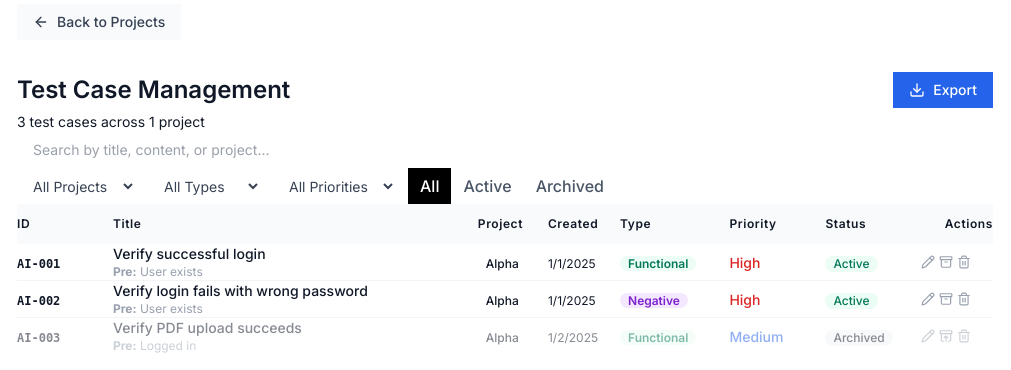
Test: TestCaseManagementView – clear filters › Clear button removes the active filter
This screenshot has width=1011, height=370.
Type "login" into the field with placeholder "Search by title, content, or project…". click: (505, 150)
box: x1=17 y1=132 x2=993 y2=168
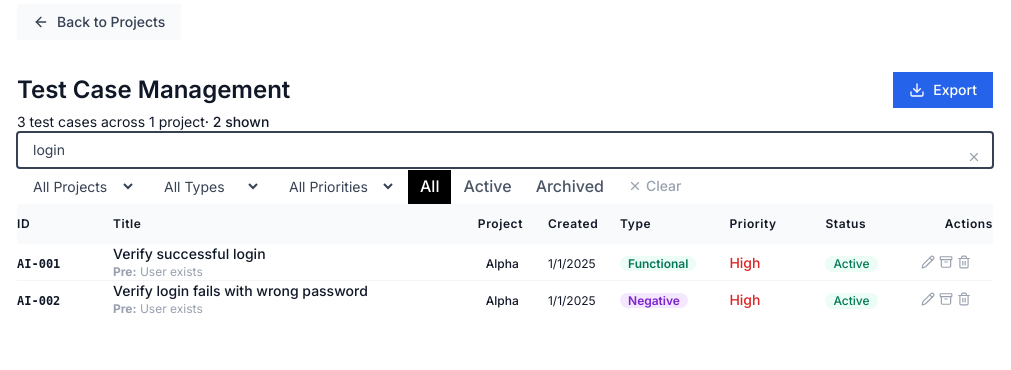
Check: the button "Clear" is shown
Click the button "Clear". click: (655, 186)
box: x1=628 y1=176 x2=681 y2=196
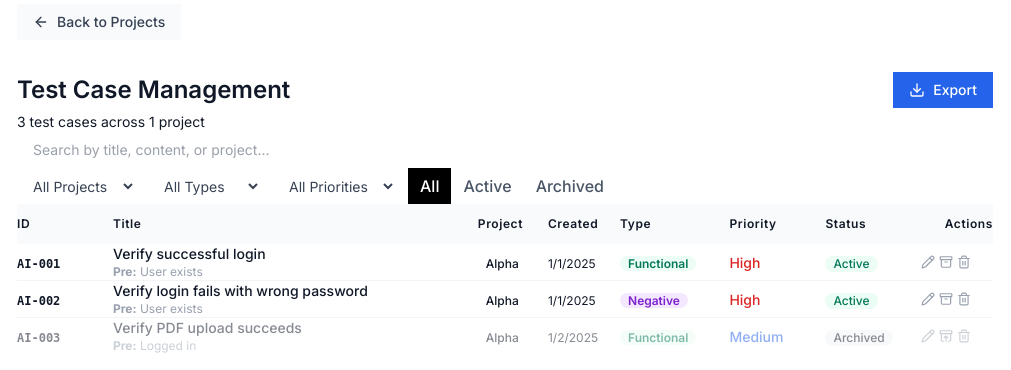
Check: the text "Verify PDF upload succeeds" is shown, box x1=113 y1=319 x2=302 y2=336
